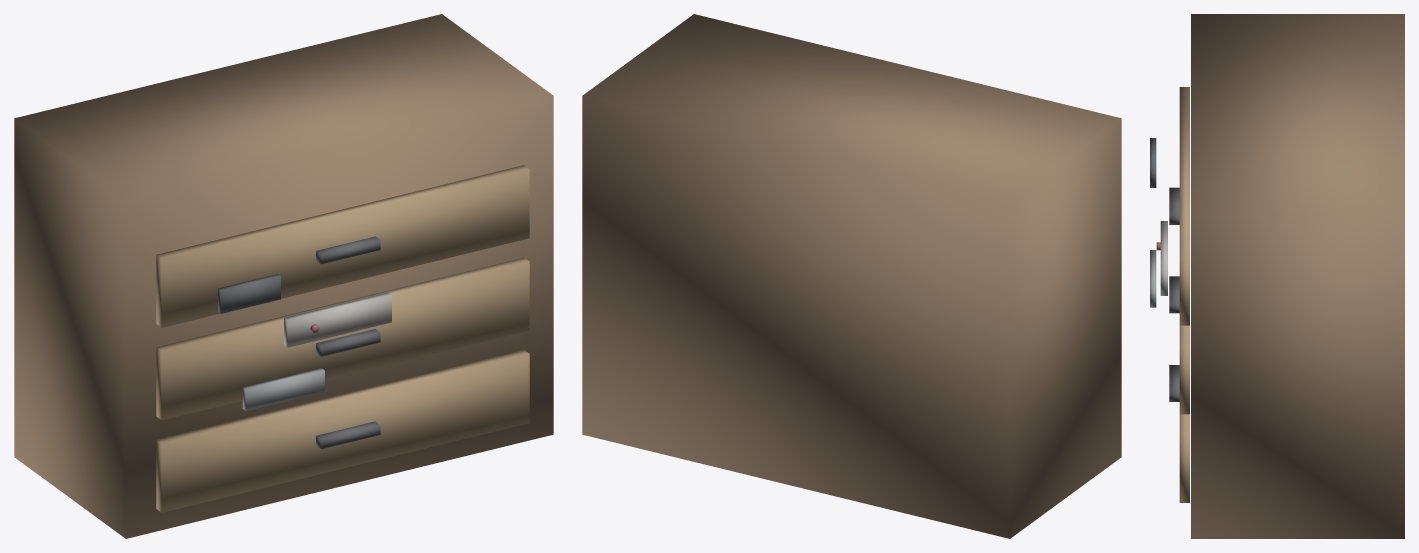
Rendered from motel_dresser__weathered.glb.
3 views of the same model, side by side, from view 1: azimuth 30°, elevation 25°; view 2: azimuth 150°, elevation 25°; view 3: azimuth 270°, elevation 25° (orthographic). The views are drawn at different scales.
Parts seen in each view (by area): view 1: world; view 2: world; view 3: world.
Boxes of the visible parts, left/top/right/bottom form: world: left=14, top=14, right=553, bottom=538; world: left=582, top=14, right=1121, bottom=538; world: left=1150, top=14, right=1404, bottom=538.
Bounding box in the file's own units: 1.15 × 0.8712 × 0.6195.
